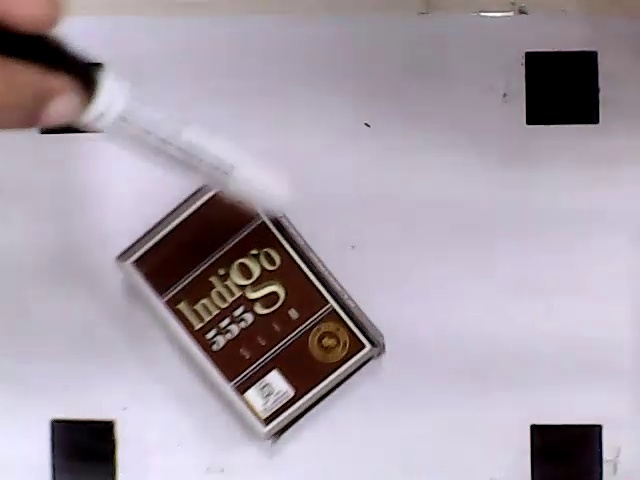BEX: (128, 174, 370, 430)
